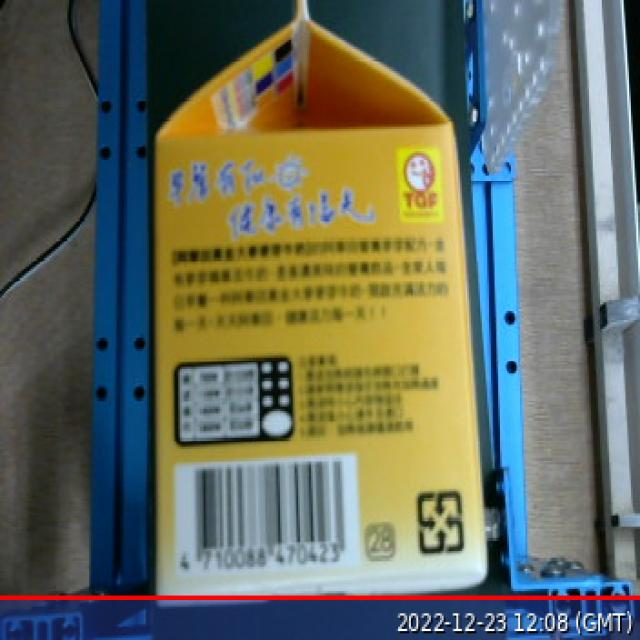non_white_jug: (140, 2, 504, 614)
